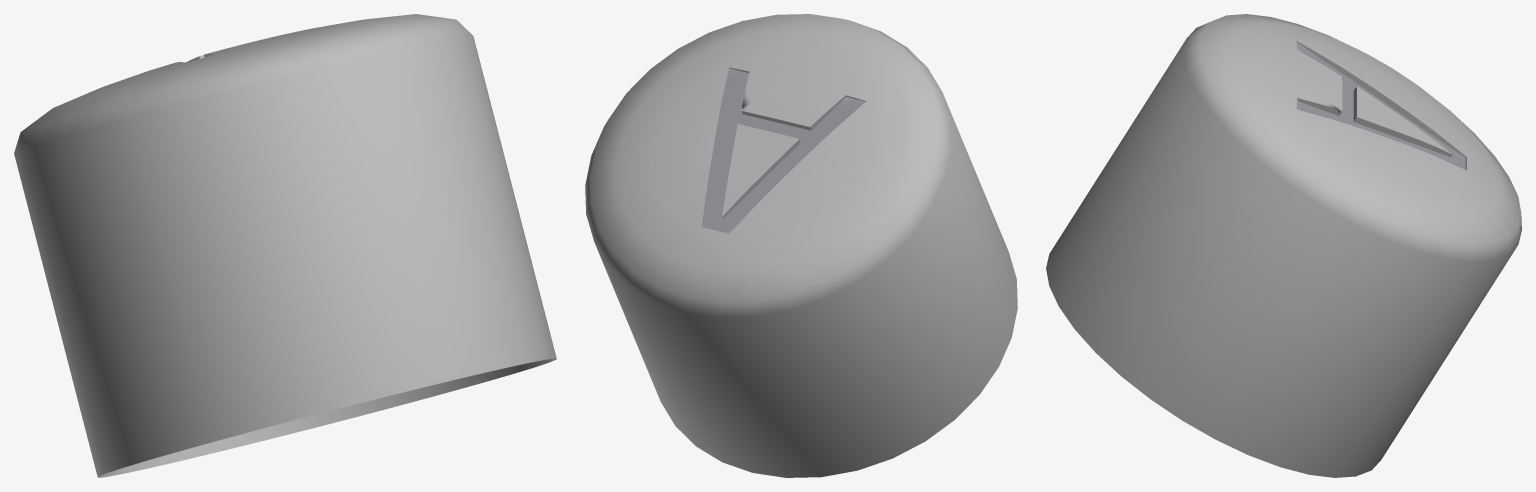
File: button_a.obj
The picture shows the model from 3 angles, left to right: view 1: azimuth 30°, elevation 25°; view 2: azimuth 150°, elevation 25°; view 3: azimuth 270°, elevation 25°; orthographic projection. The views are drawn at different scales.
Parts seen in each view (by area): view 1: button_a; view 2: button_a; view 3: button_a.
Part boxes in pixels (left/top/right/bottom): button_a: left=14, top=14, right=556, bottom=477; button_a: left=585, top=14, right=1017, bottom=477; button_a: left=1046, top=14, right=1521, bottom=477.
Size of the model in its own units: 0.00996 by 0.0113 by 0.0121.
Materials: 1 (1 with a texture image).
